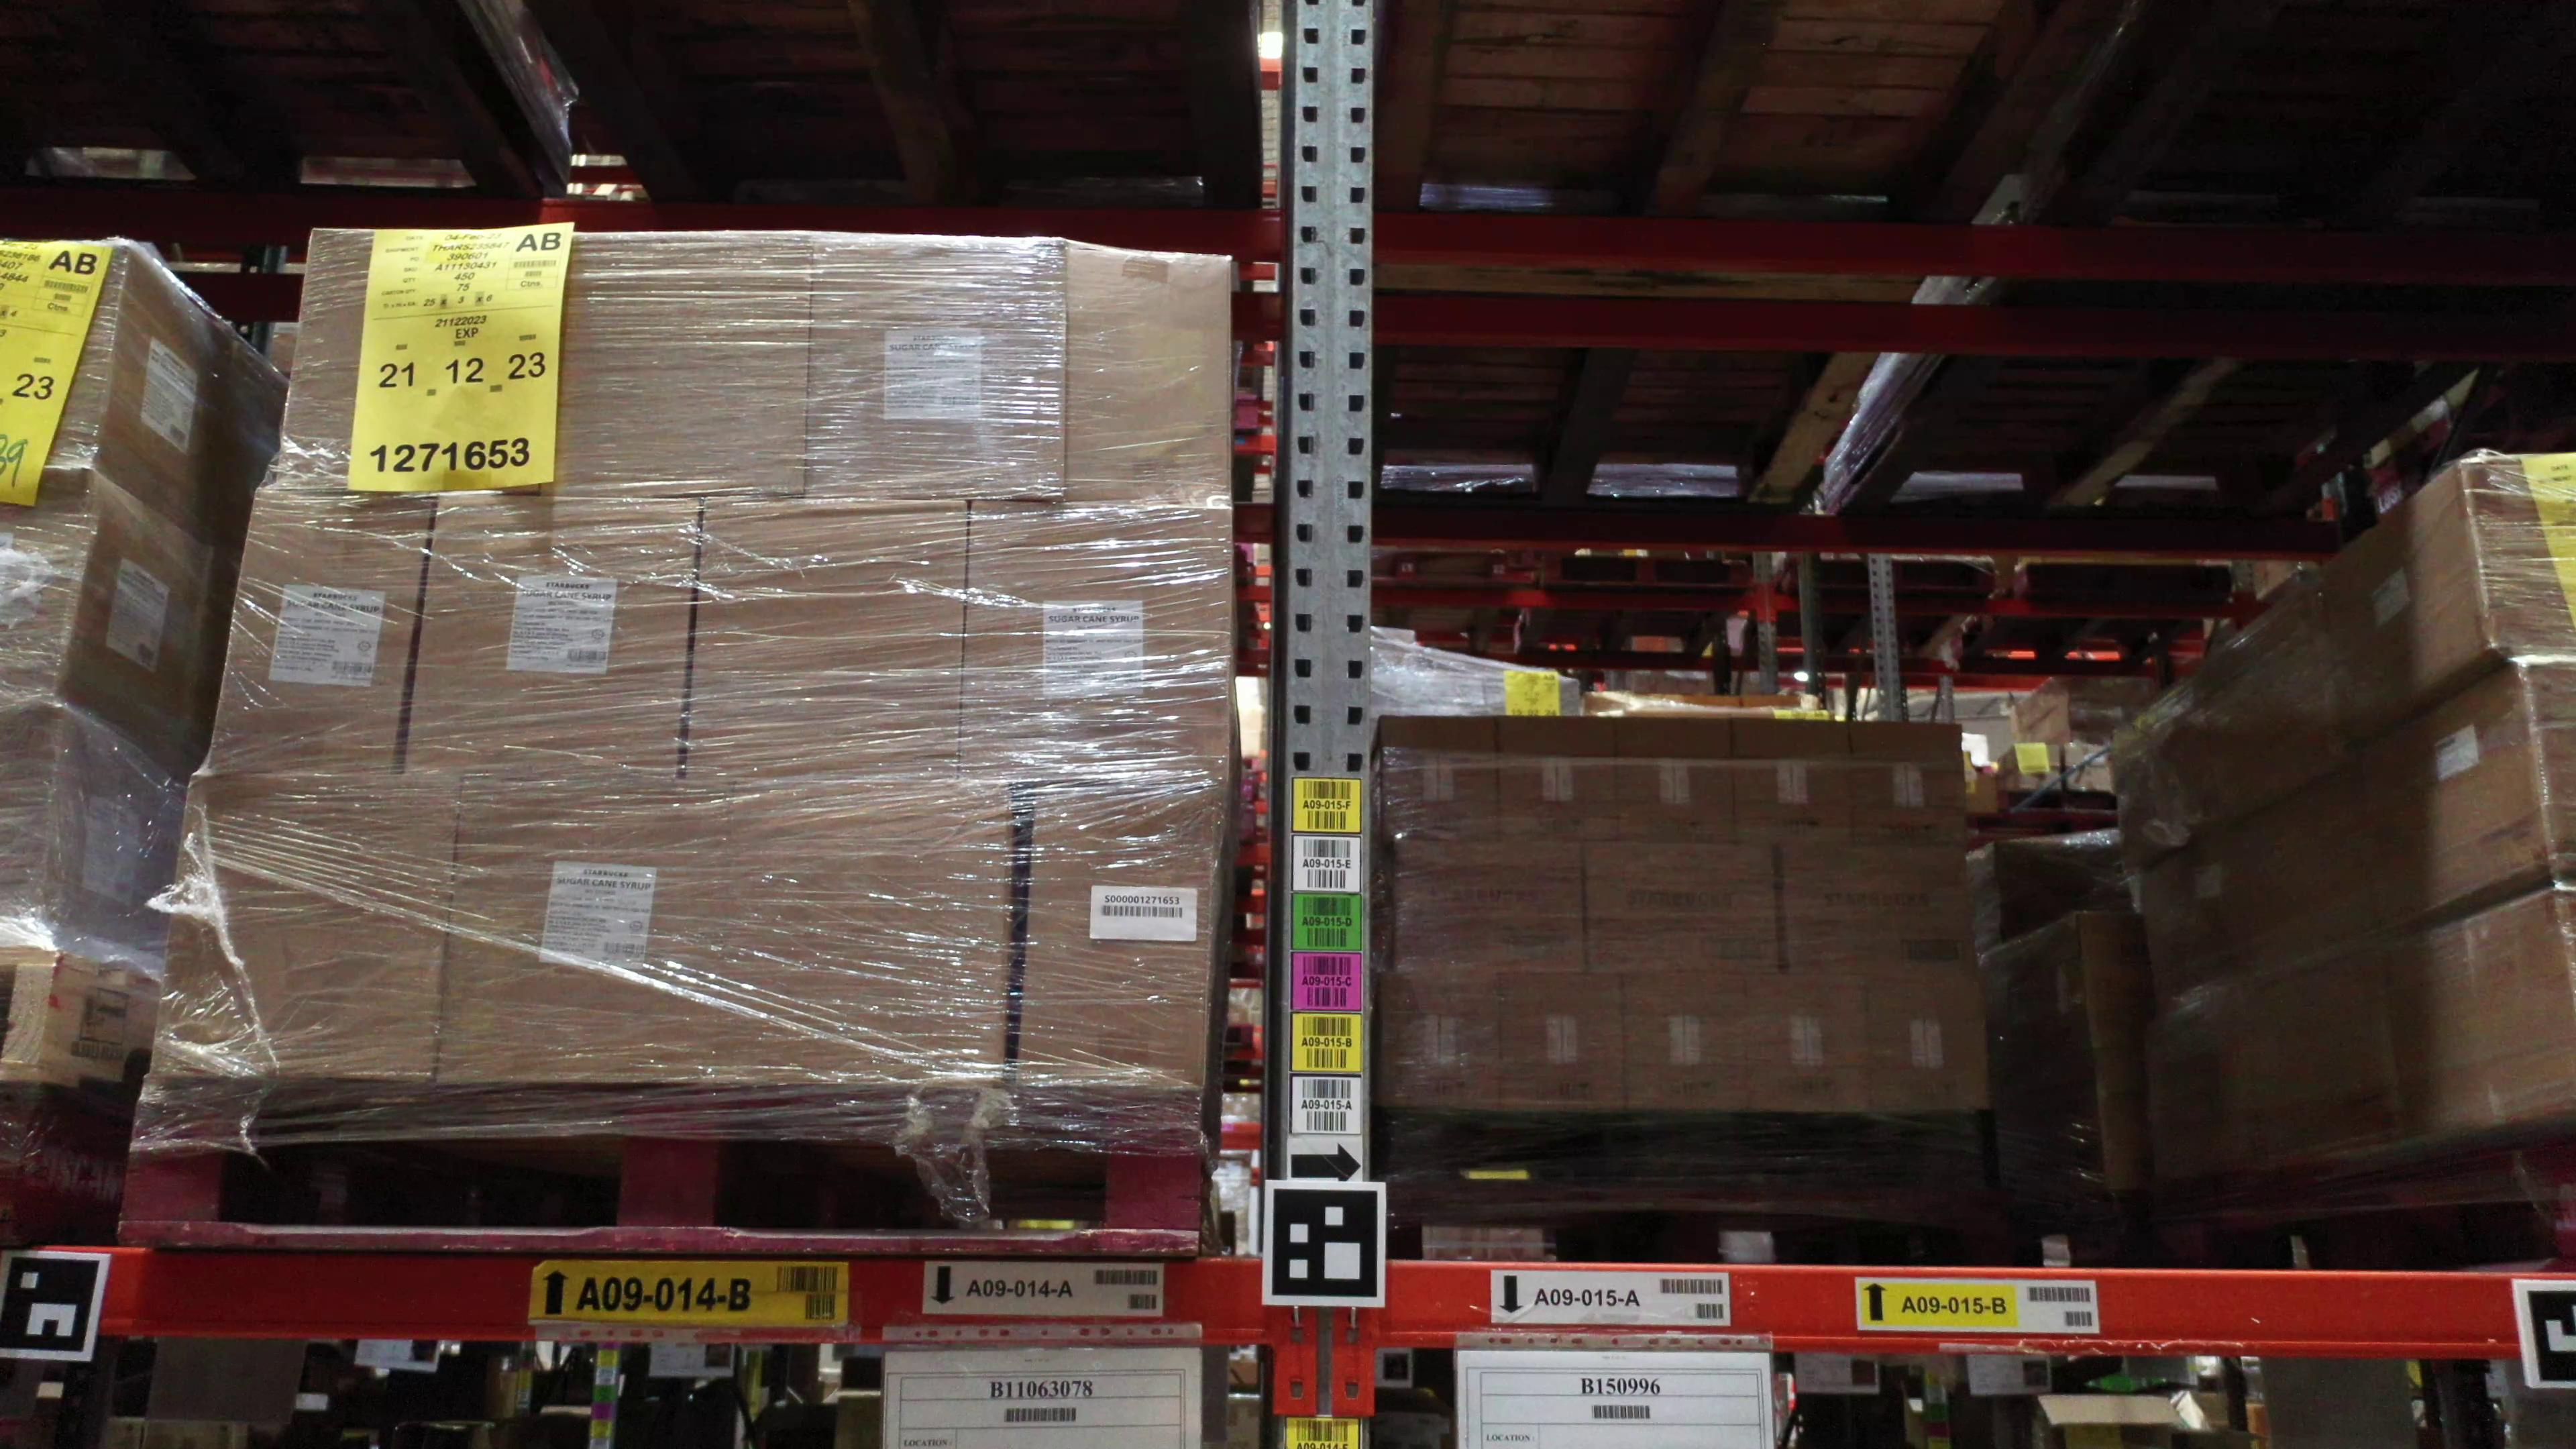-: (150, 771, 461, 1078), (431, 773, 736, 1082), (716, 783, 1013, 1087), (400, 492, 702, 783), (682, 494, 968, 787), (270, 223, 570, 498), (955, 498, 1230, 794), (539, 233, 816, 503), (800, 233, 1069, 503), (206, 492, 434, 780), (1013, 790, 1223, 1093), (1062, 239, 1232, 510), (0, 239, 132, 468), (0, 465, 101, 704), (2460, 456, 2576, 657), (0, 698, 65, 946), (2511, 651, 2576, 879)
box: (1779, 844, 1978, 980), (1583, 843, 1779, 977), (1396, 841, 1583, 975), (1499, 975, 1627, 1111), (1379, 970, 1499, 1111), (1624, 977, 1752, 1109), (1869, 975, 1988, 1114), (1748, 978, 1870, 1112), (1616, 715, 1738, 845), (1499, 714, 1620, 845), (1380, 715, 1501, 845), (1733, 718, 1855, 846), (1851, 720, 1969, 849)
